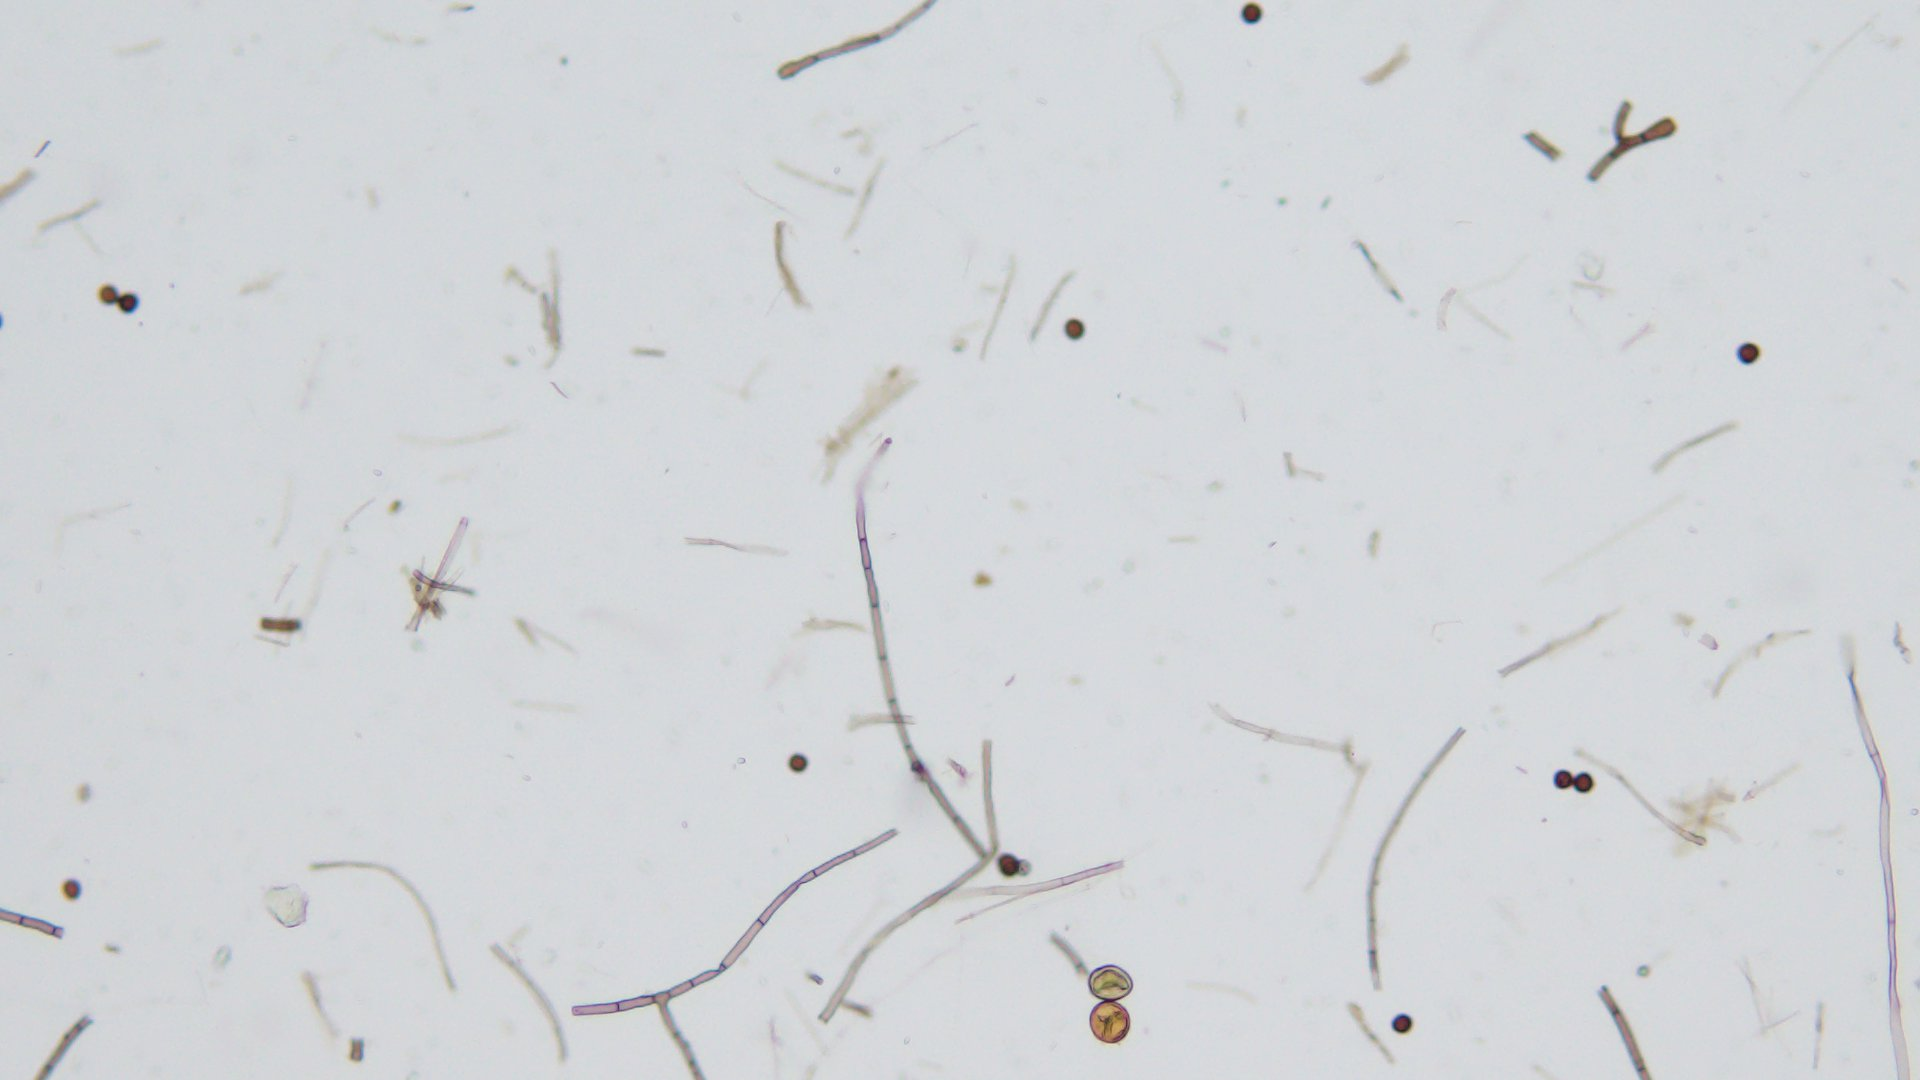shs_spore: (994, 853, 1022, 877), (1735, 342, 1760, 367), (1390, 1011, 1414, 1034), (1237, 3, 1263, 22), (1553, 767, 1573, 790), (1571, 773, 1593, 793), (117, 293, 138, 313), (1065, 318, 1085, 339), (98, 285, 117, 305), (789, 753, 808, 773)
xb_spore: (1085, 1001, 1134, 1043), (1087, 967, 1135, 1000)
